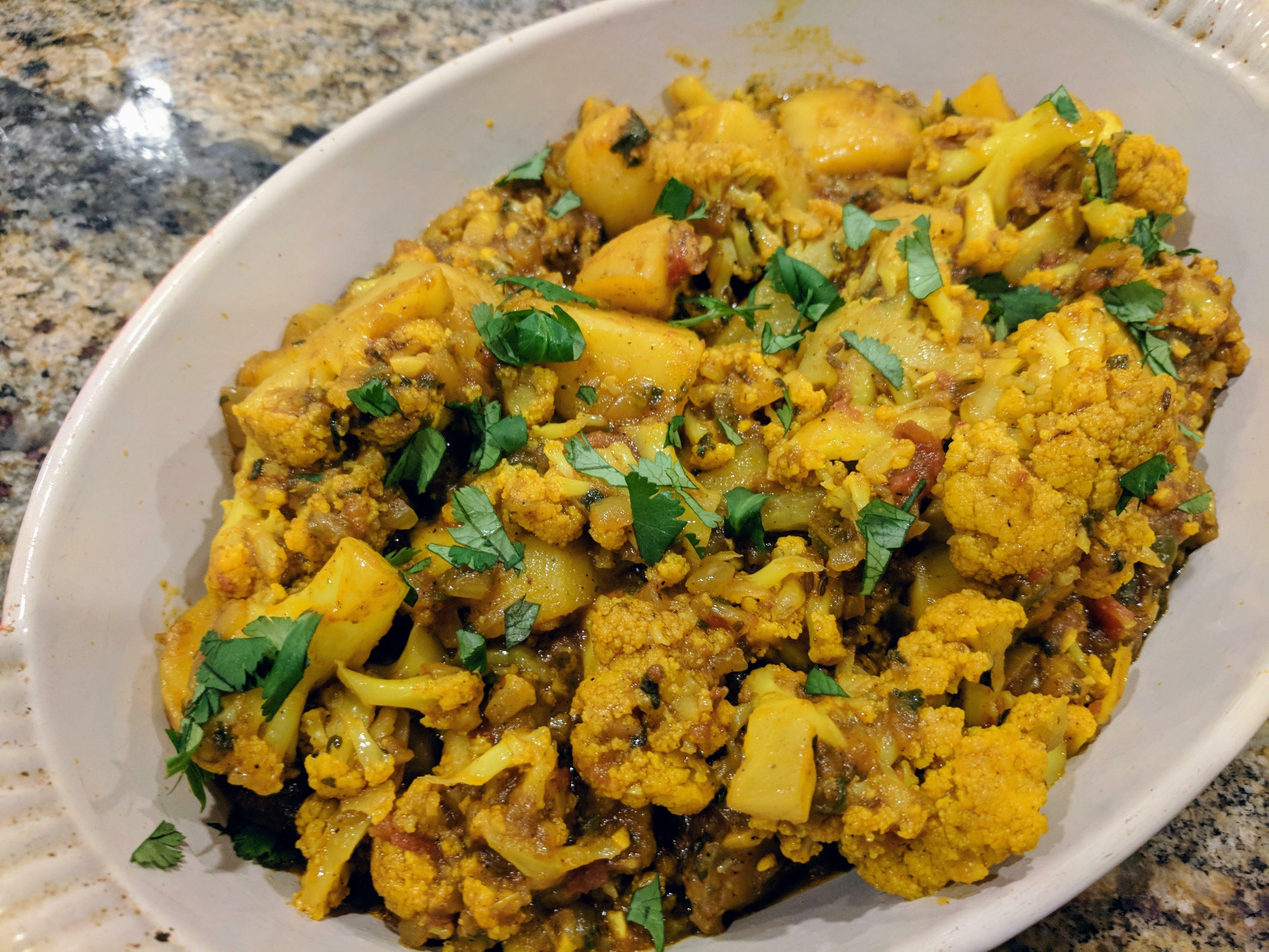AlooGobi: (155, 69, 1252, 952)
